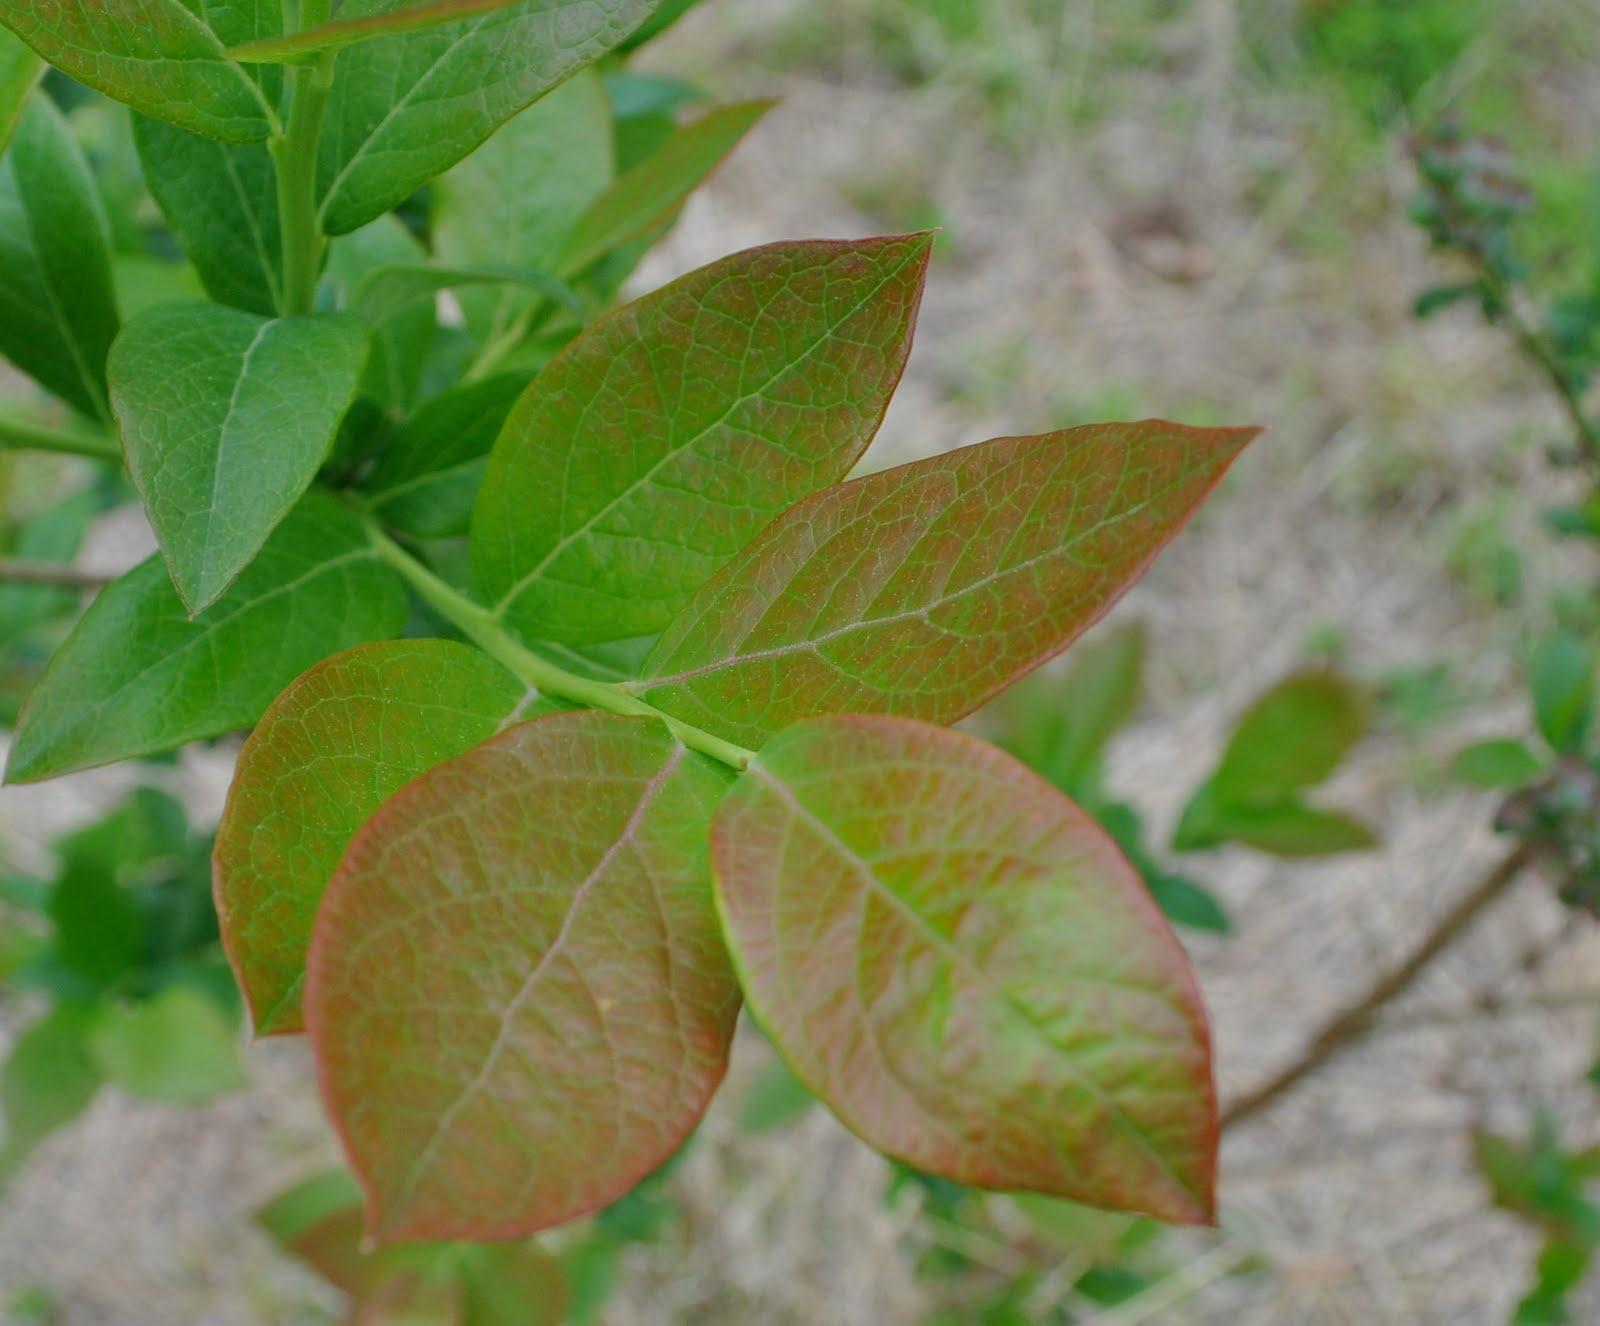Blueberry leaf: (706, 706, 1322, 1301), (292, 706, 765, 1286), (454, 197, 958, 688), (652, 405, 1290, 773), (150, 624, 553, 1071)
